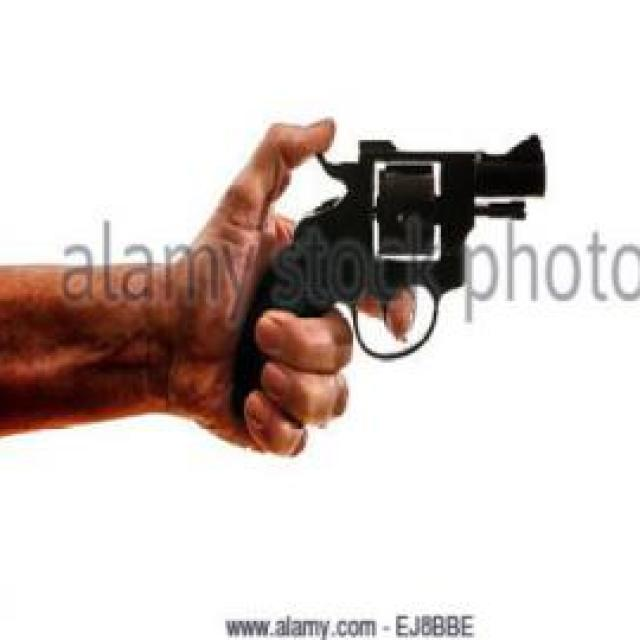pistol: (230, 128, 547, 430)
